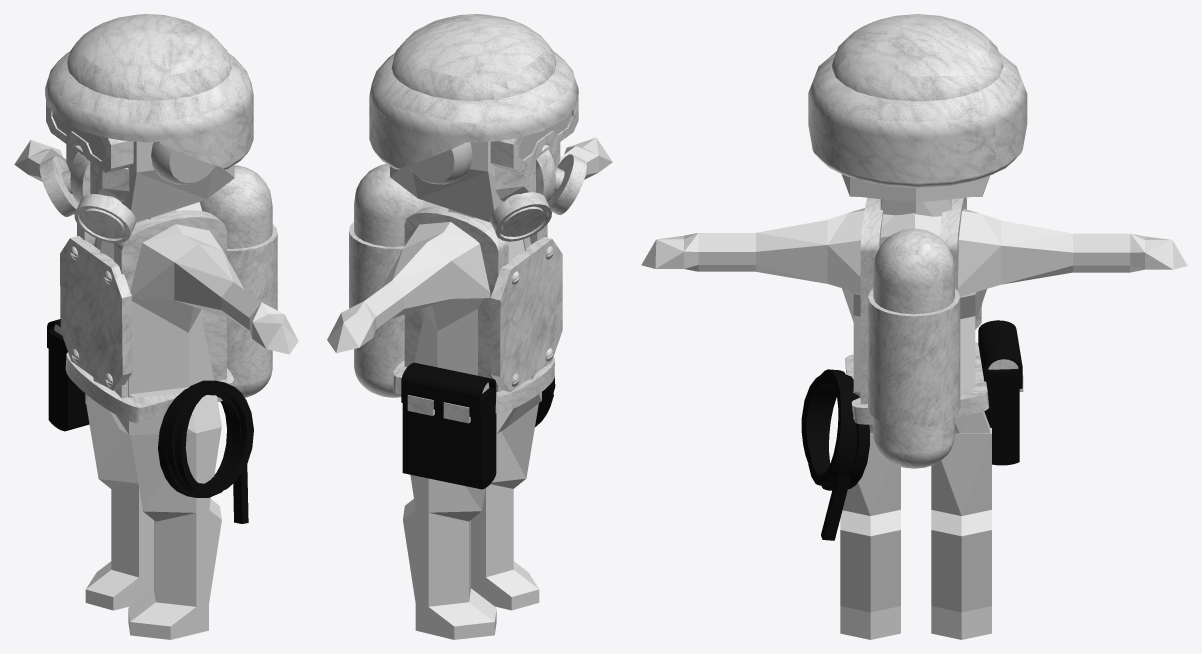
File: playerv3 1.fbx
3 renders of one model, left to right at view 1: azimuth 30°, elevation 25°; view 2: azimuth 150°, elevation 25°; view 3: azimuth 270°, elevation 25°, orthographic. The views are drawn at different scales.
Visible parts, largest first — view 1: group510330597, helmet2, tank, protection, cable, lanière.001, pocket, lanière.002, ecouteur.001; view 2: group510330597, helmet2, pocket, tank, protection, lanière, ecouteur, lanière.002, cable; view 3: group510330597, helmet2, tank, cable, pocket, lanière.001, lanière.002, lanière.
Boxes of the visible parts, left/top/right/bottom form: group510330597: left=14, top=140, right=298, bottom=639; helmet2: left=39, top=14, right=253, bottom=243; tank: left=199, top=165, right=277, bottom=397; protection: left=60, top=236, right=132, bottom=390; cable: left=158, top=380, right=253, bottom=523; lanière.001: left=114, top=210, right=226, bottom=398; pocket: left=47, top=319, right=89, bottom=431; lanière.002: left=65, top=352, right=234, bottom=423; ecouteur.001: left=151, top=142, right=215, bottom=184; group510330597: left=327, top=137, right=612, bottom=639; helmet2: left=369, top=14, right=586, bottom=241; pocket: left=401, top=362, right=496, bottom=489; tank: left=349, top=164, right=425, bottom=397; protection: left=490, top=237, right=562, bottom=391; lanière: left=404, top=206, right=508, bottom=392; ecouteur: left=408, top=142, right=472, bottom=184; lanière.002: left=393, top=357, right=554, bottom=413; cable: left=535, top=376, right=555, bottom=426; group510330597: left=641, top=174, right=1187, bottom=639; helmet2: left=808, top=14, right=1027, bottom=187; tank: left=868, top=228, right=960, bottom=468; cable: left=801, top=369, right=869, bottom=540; pocket: left=978, top=320, right=1023, bottom=465; lanière.001: left=860, top=197, right=882, bottom=404; lanière.002: left=845, top=342, right=989, bottom=424; lanière: left=939, top=197, right=966, bottom=290.
Size of the model in its own units: 16.47 by 43.32 by 36.01.
